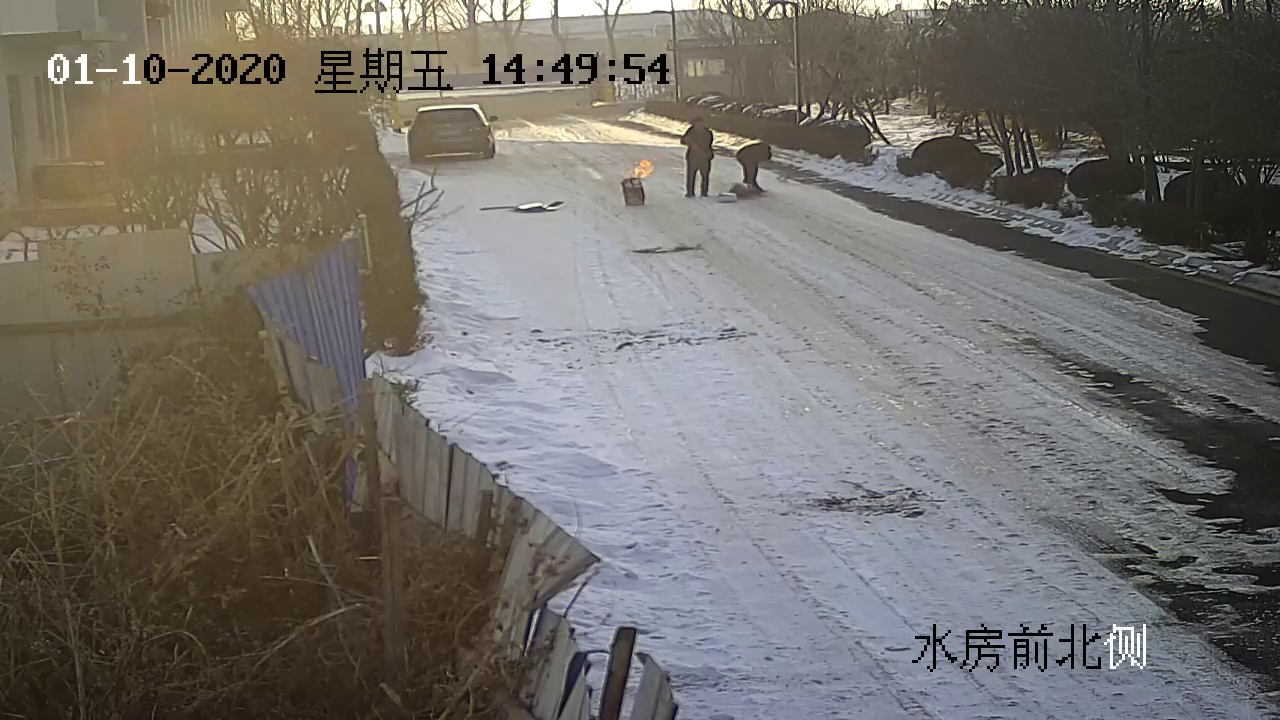fire: (631, 158, 655, 178)
